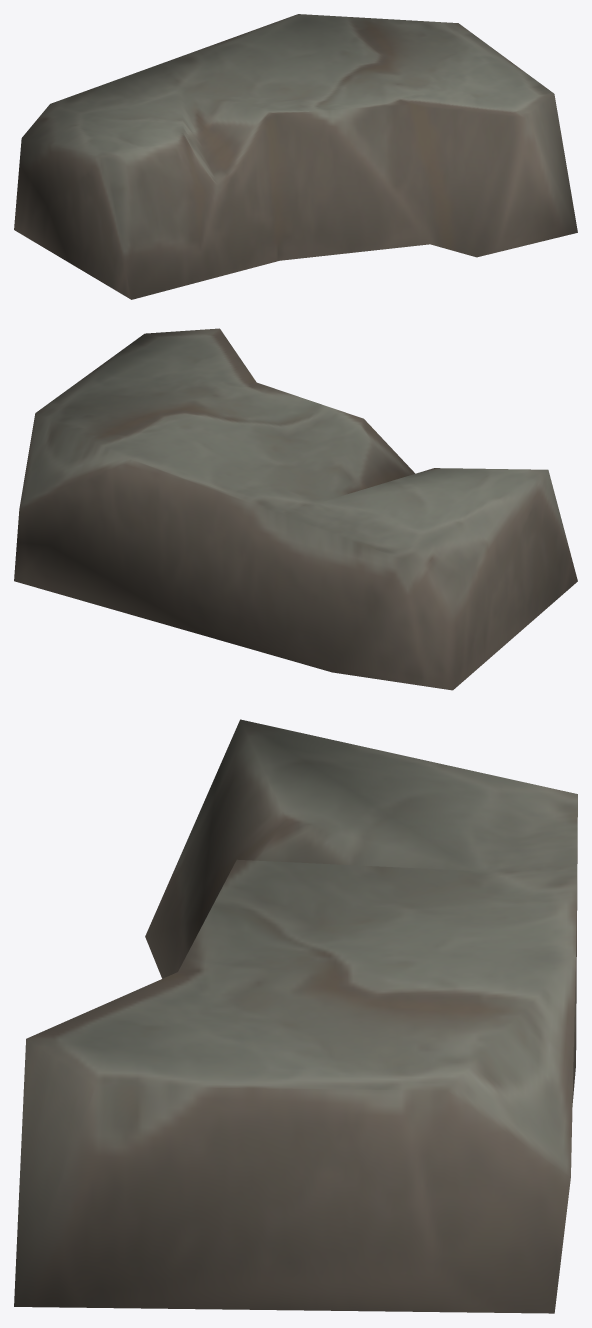
Rendered from SM_FW01_Floor_Debris_12.fbx.
3 renders of one model, top to bottom at view 1: azimuth 30°, elevation 25°; view 2: azimuth 150°, elevation 25°; view 3: azimuth 270°, elevation 25°, orthographic. The views are drawn at different scales.
Visible parts, largest first — view 1: SM_FW01_Floor_Debris_12; view 2: SM_FW01_Floor_Debris_12; view 3: SM_FW01_Floor_Debris_12.
Part boxes in pixels (x1,y1,x2,y2): SM_FW01_Floor_Debris_12: (14, 14, 577, 299); SM_FW01_Floor_Debris_12: (14, 328, 577, 690); SM_FW01_Floor_Debris_12: (14, 719, 577, 1313).
Size of the model in its own units: 0.5921 by 0.2043 by 0.3898.
